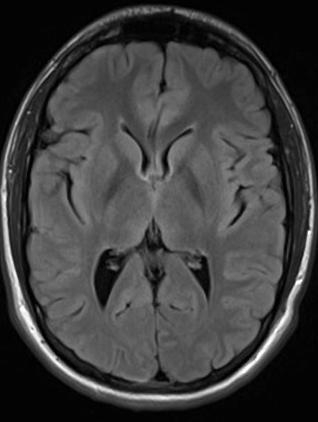Normal_Brain: (1, 1, 318, 422)
